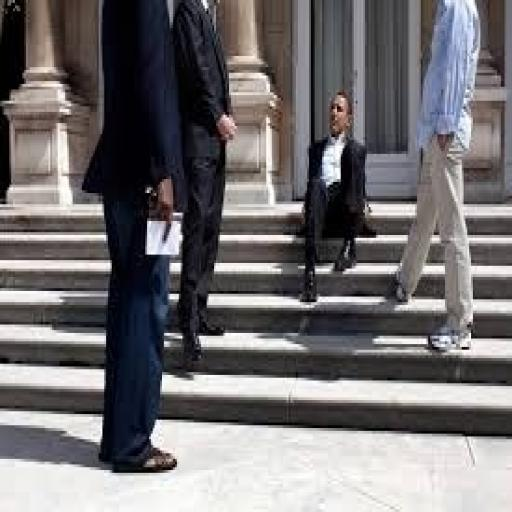sitting: (296, 87, 376, 305)
